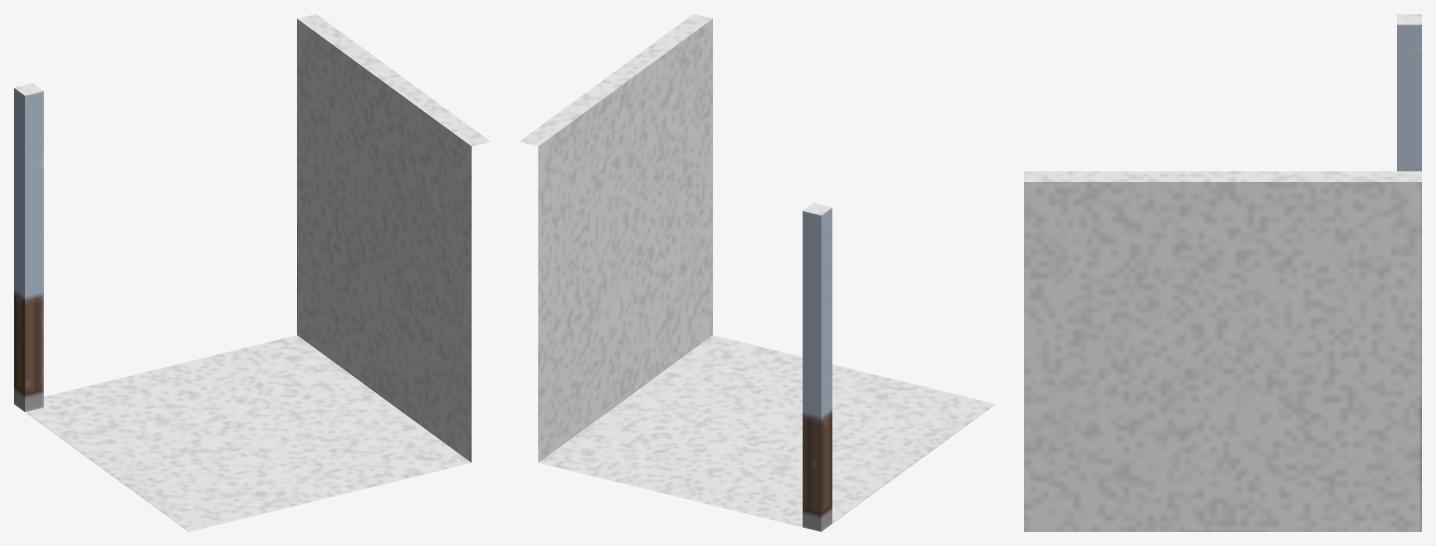
Rendered from wallStraightPillarL.fbx.
3 renders of one model, left to right at view 1: azimuth 30°, elevation 25°; view 2: azimuth 150°, elevation 25°; view 3: azimuth 270°, elevation 25°, orthographic. The views are drawn at different scales.
Parts seen in each view (by area): view 1: SimpleWallPillarL; view 2: SimpleWallPillarL; view 3: SimpleWallPillarL.
Part boxes in pixels (x1,y1,x2,y2): SimpleWallPillarL: [14, 14, 490, 531]; SimpleWallPillarL: [519, 14, 995, 531]; SimpleWallPillarL: [1024, 14, 1421, 531].
Size of the model in its own units: 4 by 4 by 4.
